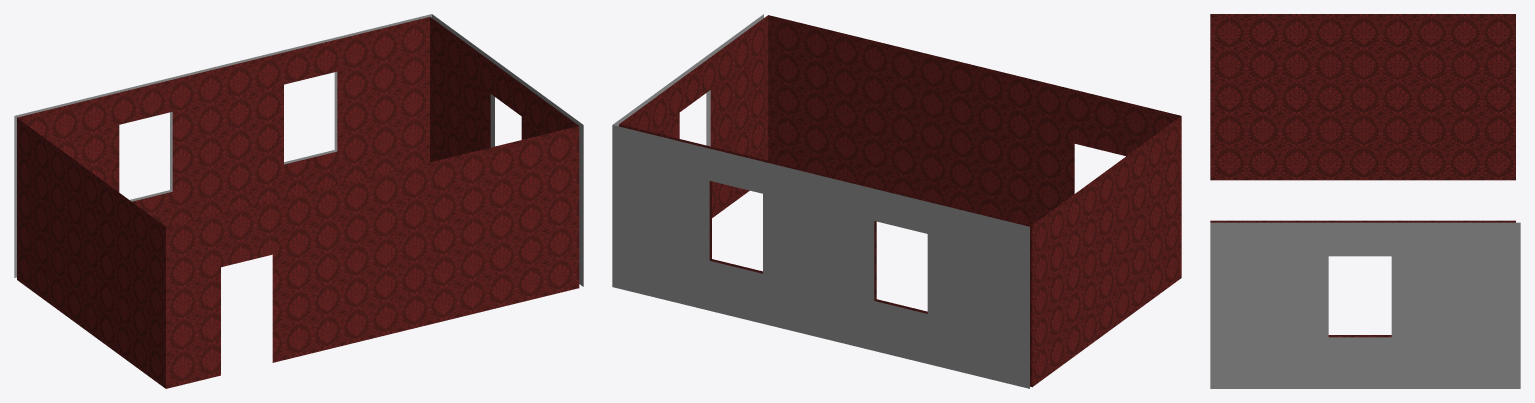
Rendered from StudyRoom.fbx.
The picture shows the model from 3 angles, left to right: view 1: azimuth 30°, elevation 25°; view 2: azimuth 150°, elevation 25°; view 3: azimuth 270°, elevation 25°; orthographic projection. The views are drawn at different scales.
Visible parts, largest first — view 1: polySurface161, polySurface165; view 2: polySurface161, polySurface165; view 3: polySurface161, polySurface165.
Boxes of the visible parts, box(x1,y1,x2,y2) form: polySurface161: box(17, 17, 579, 388); polySurface165: box(14, 14, 583, 286); polySurface161: box(619, 15, 1181, 387); polySurface165: box(612, 14, 1029, 388); polySurface161: box(1210, 14, 1515, 337); polySurface165: box(1210, 222, 1520, 388).
Bounding box in the file's own units: 808 × 300 × 508.
